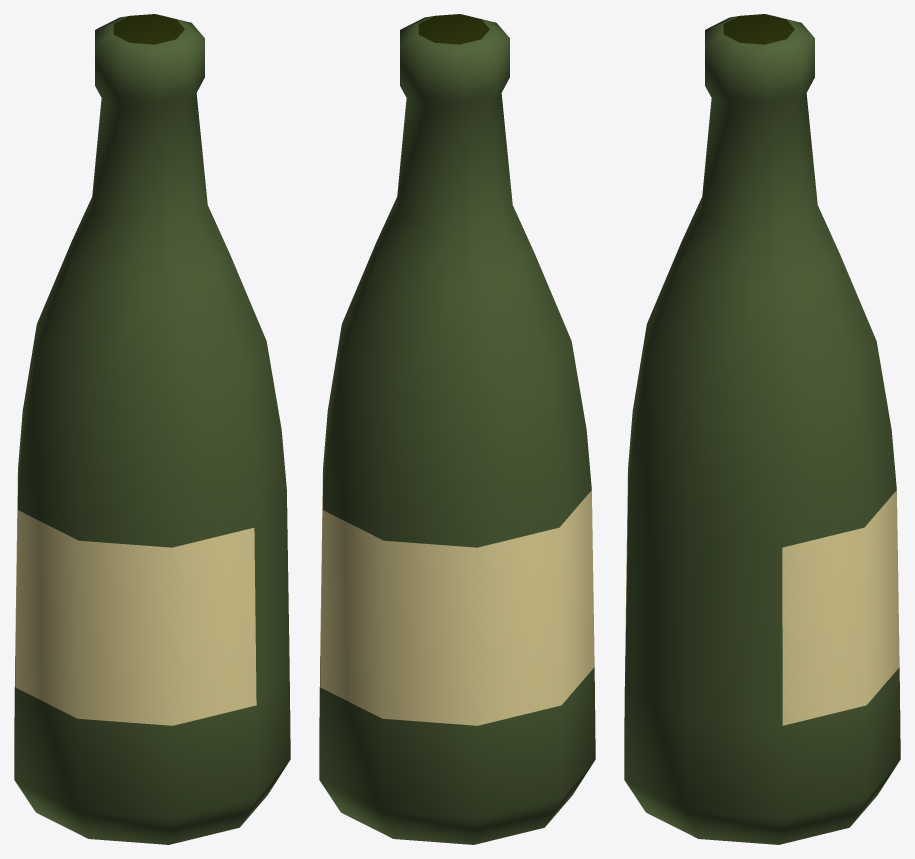
File: glassBottle.fbx
The picture shows the model from 3 angles, left to right: view 1: azimuth 30°, elevation 25°; view 2: azimuth 150°, elevation 25°; view 3: azimuth 270°, elevation 25°; orthographic projection.
Visible parts, largest first — view 1: Cylinder.002; view 2: Cylinder.002; view 3: Cylinder.002.
Boxes of the visible parts, left/top/right/bottom form: Cylinder.002: left=14, top=14, right=290, bottom=844; Cylinder.002: left=319, top=14, right=595, bottom=844; Cylinder.002: left=624, top=14, right=900, bottom=844.
Bounding box in the file's own units: 24.39 × 73.42 × 24.02.
